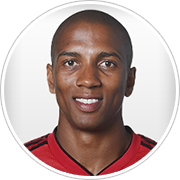smile: (69, 93, 105, 111)
